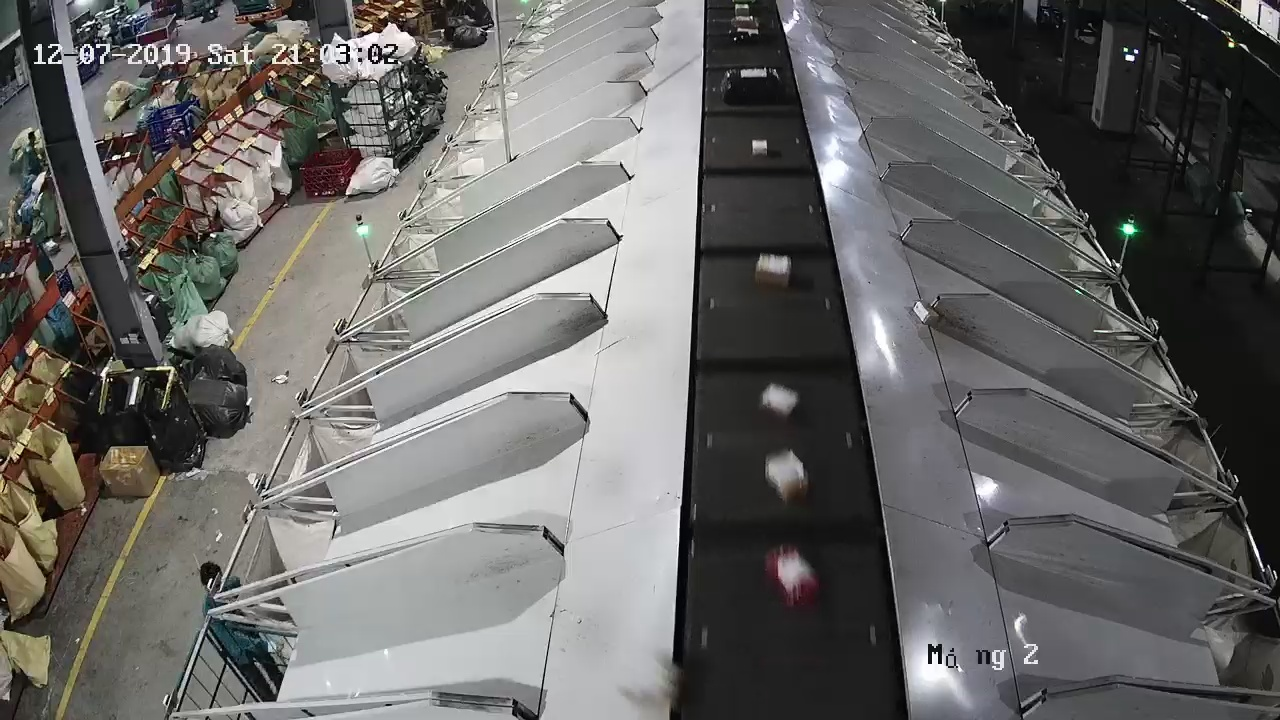parcel: (612, 648, 682, 706)
